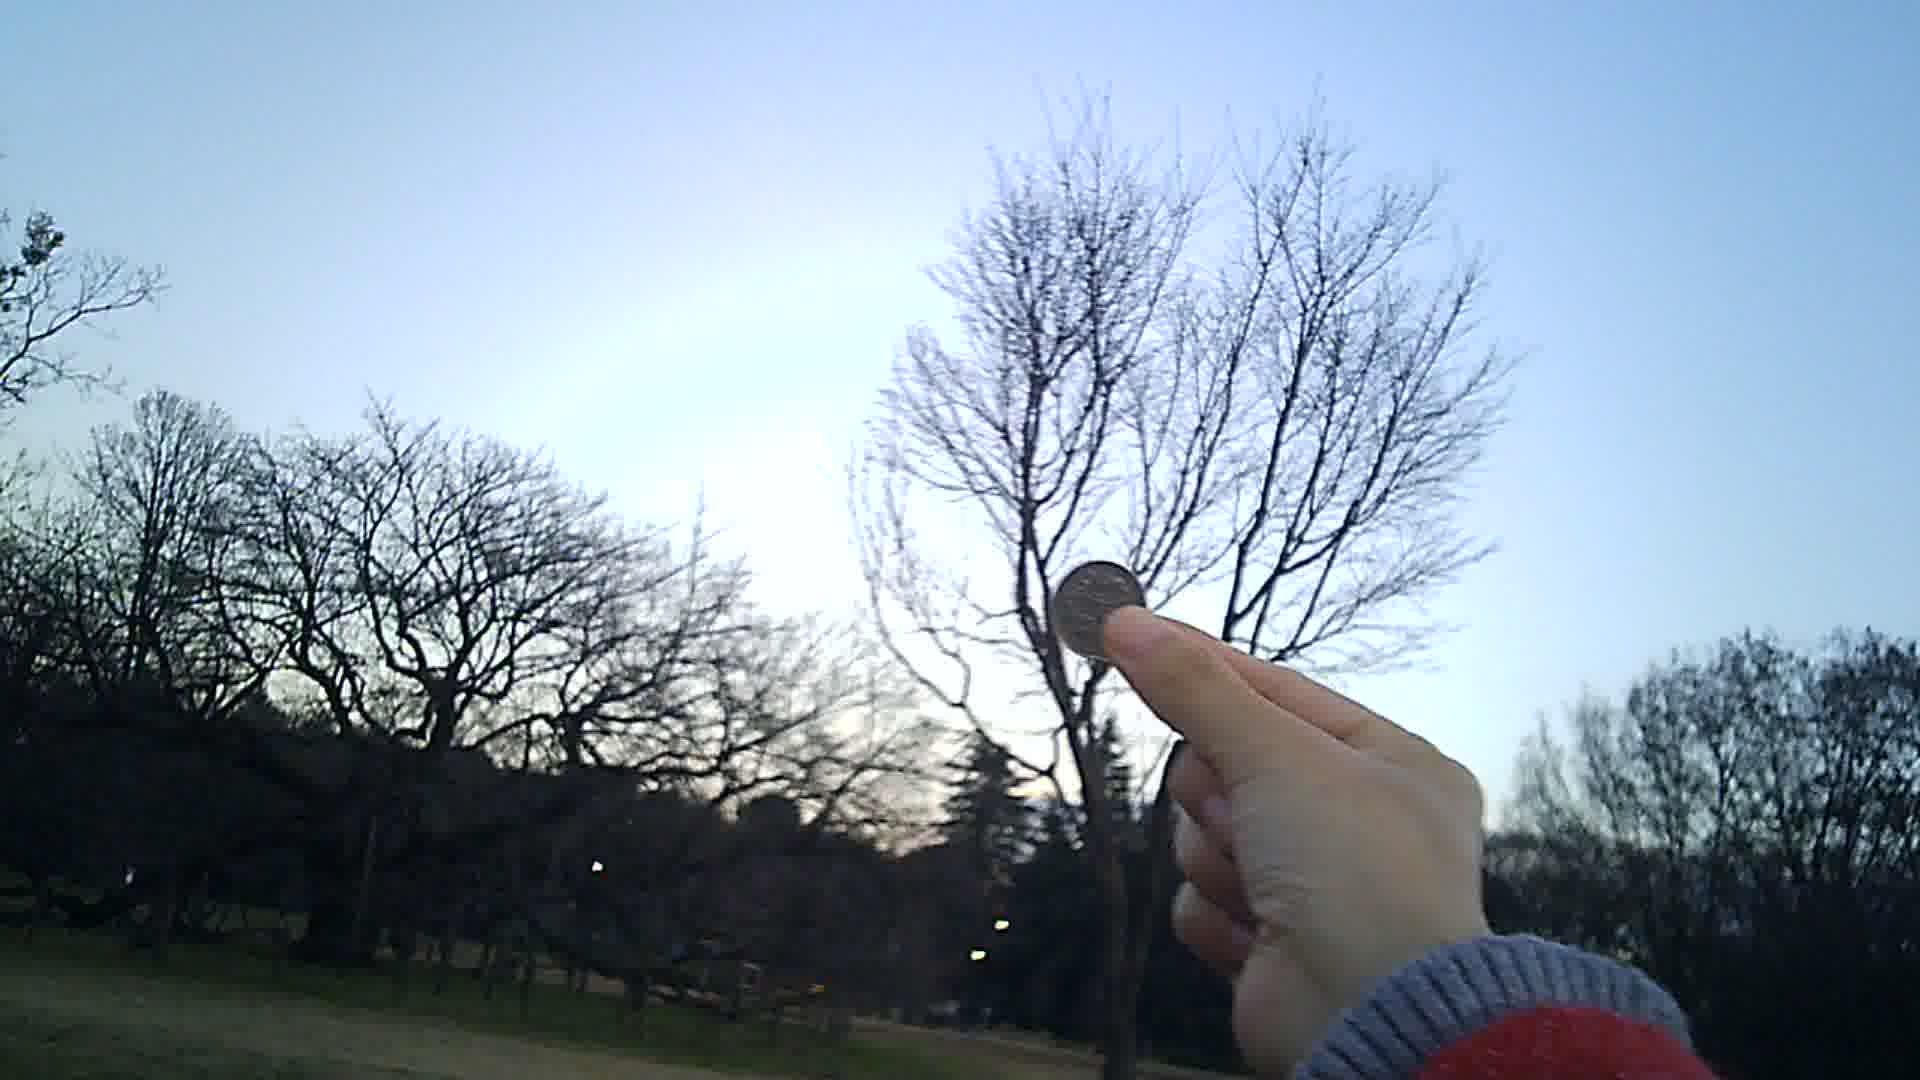100 Yen: (1047, 558, 1146, 651)
